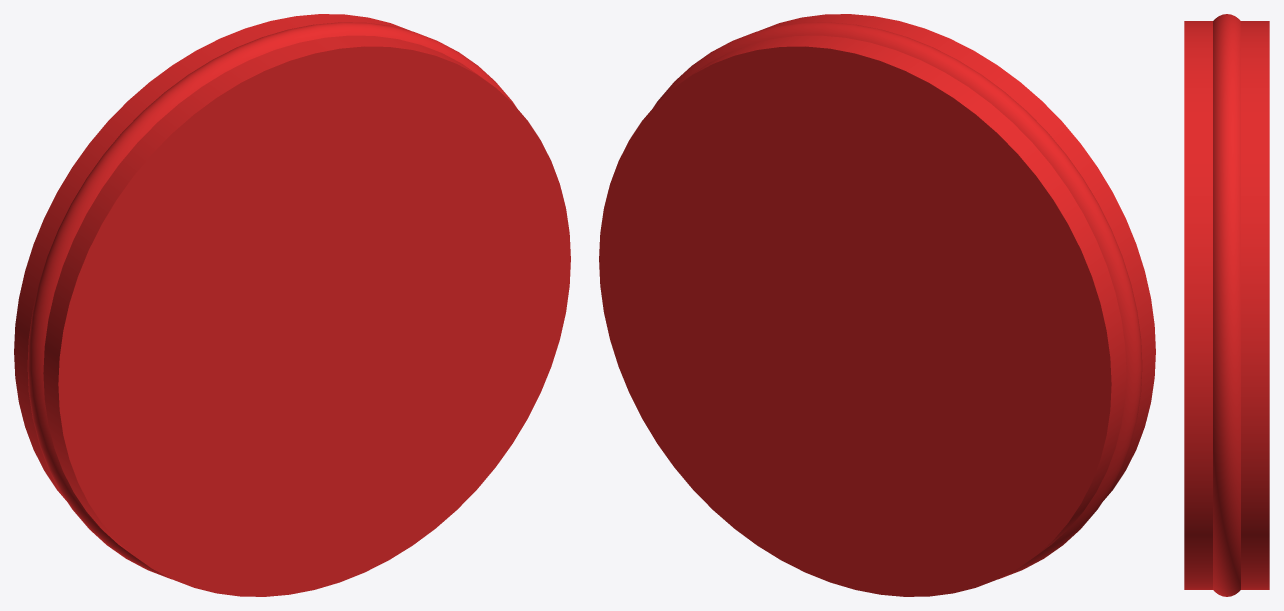
File: connect4_red.glb
3 views of the same model, side by side, from view 1: azimuth 30°, elevation 25°; view 2: azimuth 150°, elevation 25°; view 3: azimuth 270°, elevation 25° (orthographic). The views are drawn at different scales.
Visible parts, largest first — view 1: CoinDisc, CoinRim; view 2: CoinDisc, CoinRim; view 3: CoinDisc, CoinRim.
Part boxes in pixels (x1=…): CoinDisc: x1=14, y1=14, x2=570, y2=596; CoinRim: x1=27, y1=22, x2=516, y2=579; CoinDisc: x1=599, y1=14, x2=1155, y2=596; CoinRim: x1=653, y1=22, x2=1142, y2=579; CoinDisc: x1=1184, y1=21, x2=1269, y2=589; CoinRim: x1=1213, y1=14, x2=1240, y2=596.
Size of the model in its own units: 0.82 by 0.82 by 0.12.
